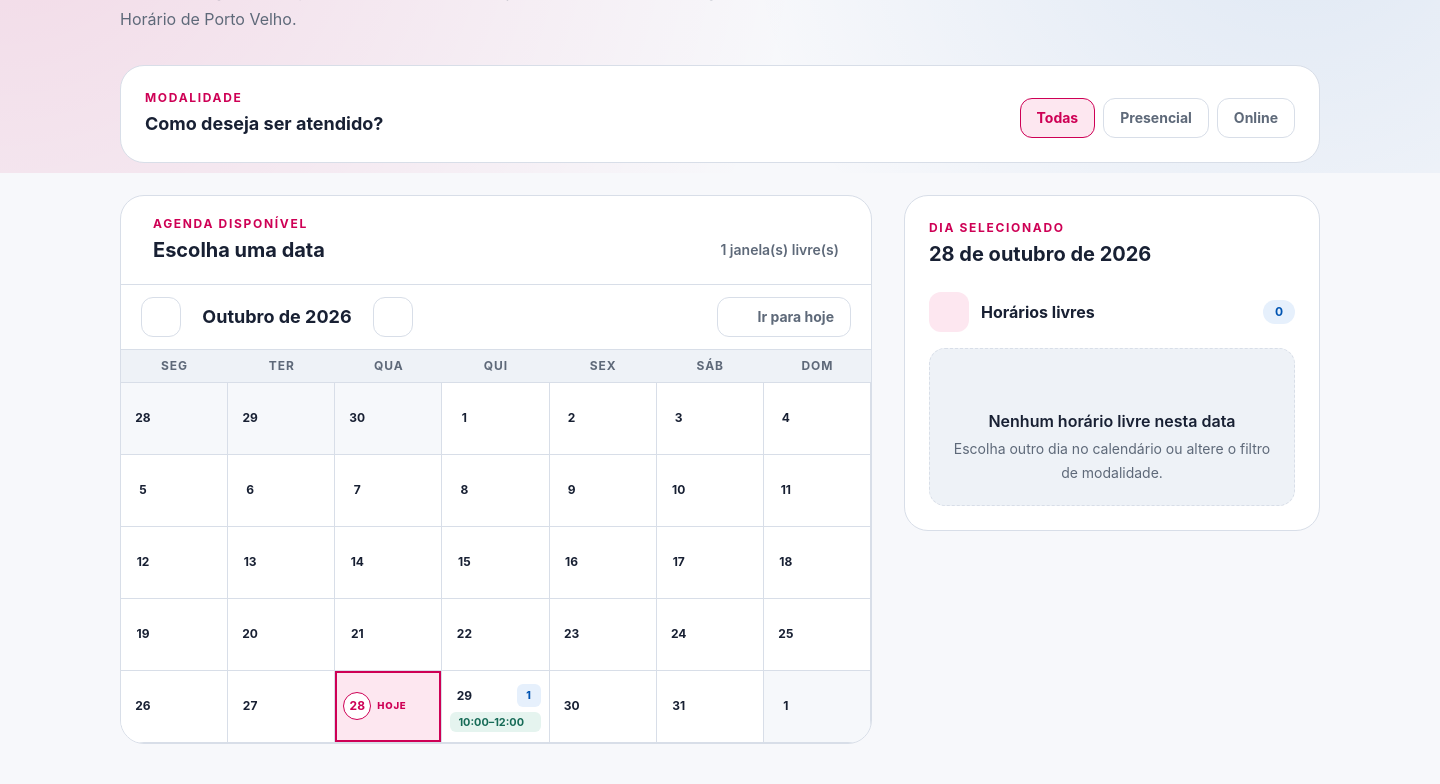
Test: NewAppointmentView › confirma a revisão no servidor, envia instantes UTC e exibe o protocolo
(page scrolled)
Click the button "29 1 10:00–12:00". click: click(496, 707)
box: top-left (442, 671), bottom-right (550, 743)
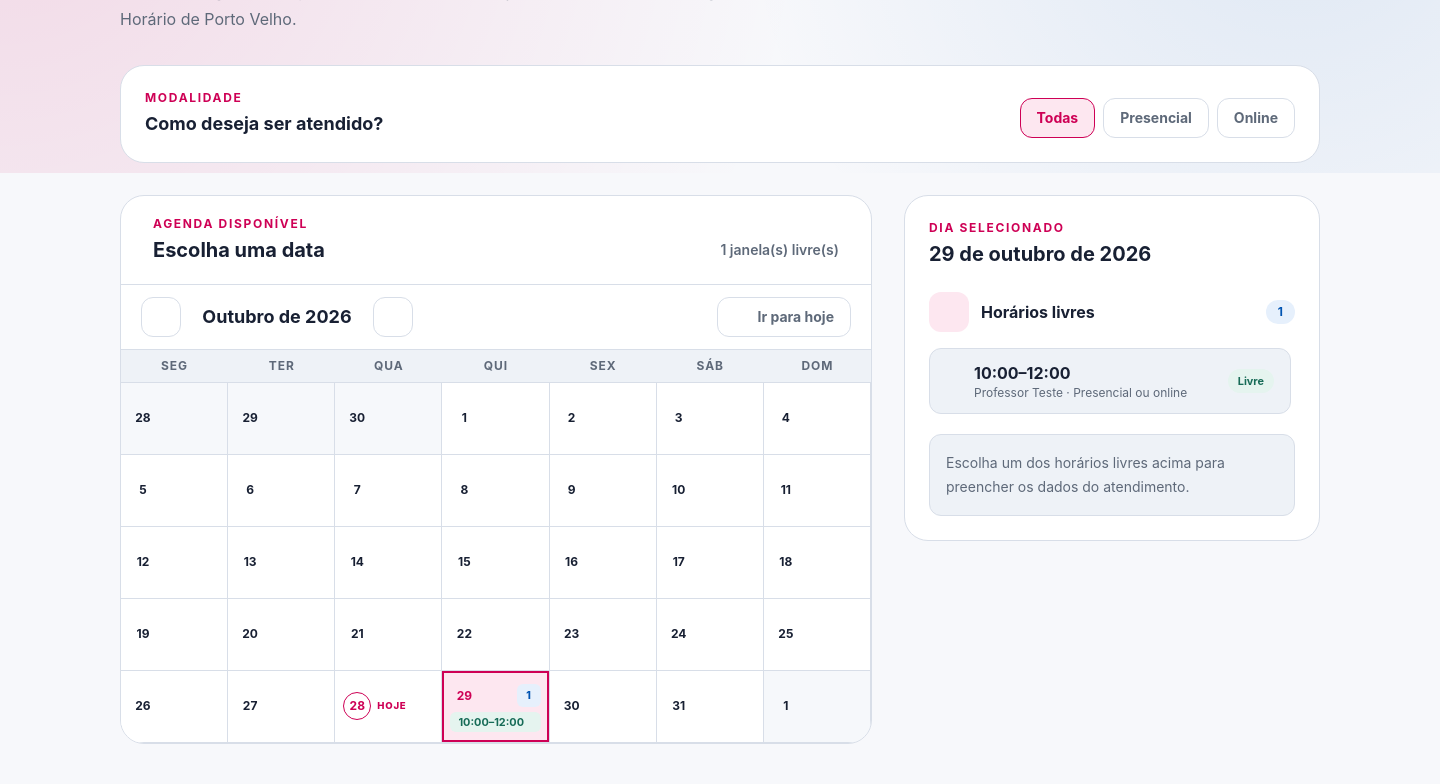
Click the button with test id "day-interval-". click: click(1022, 373)
box: top-left (929, 348), bottom-right (1291, 414)
(page scrolled)
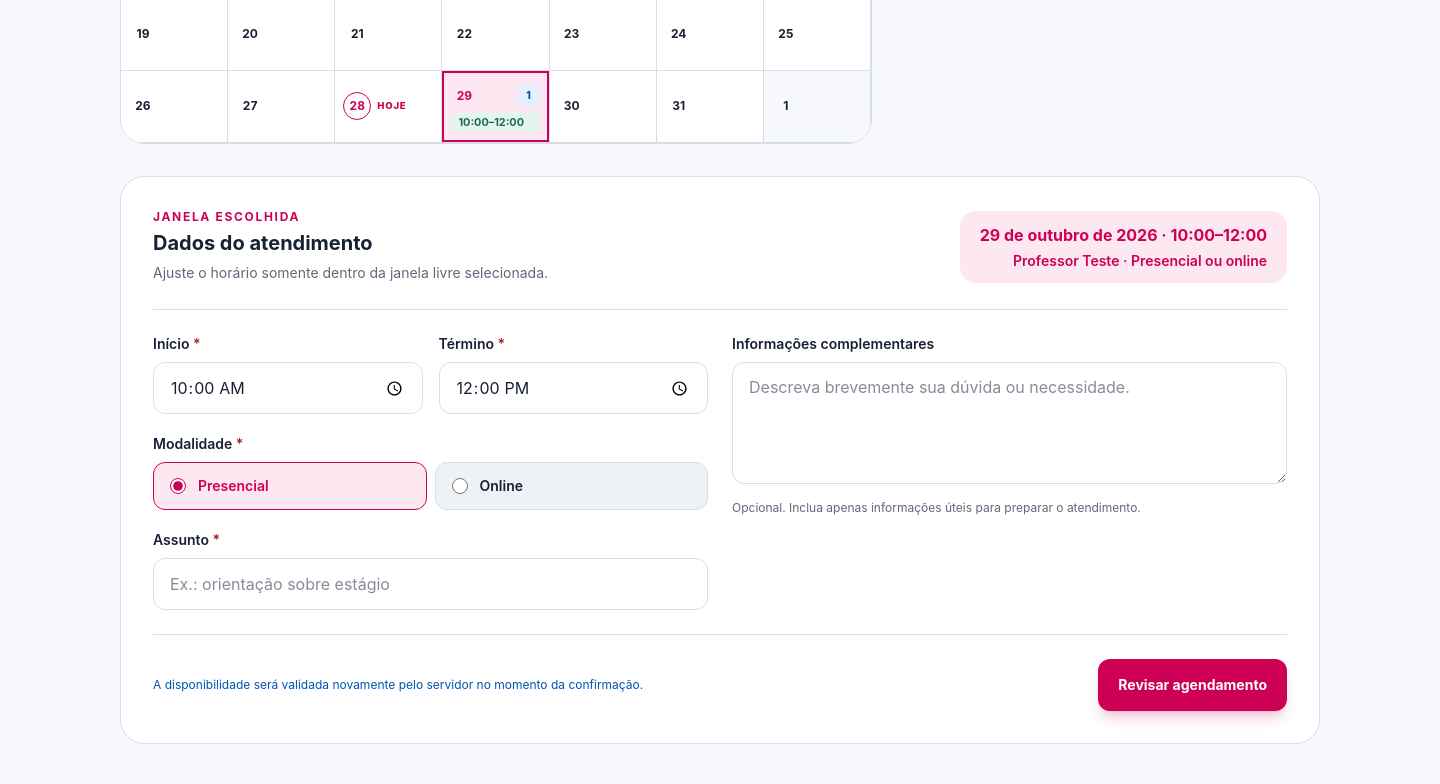
Type "Orientação sobre estágio" into the field named "subject". click: (430, 584)
box: top-left (153, 558), bottom-right (708, 610)
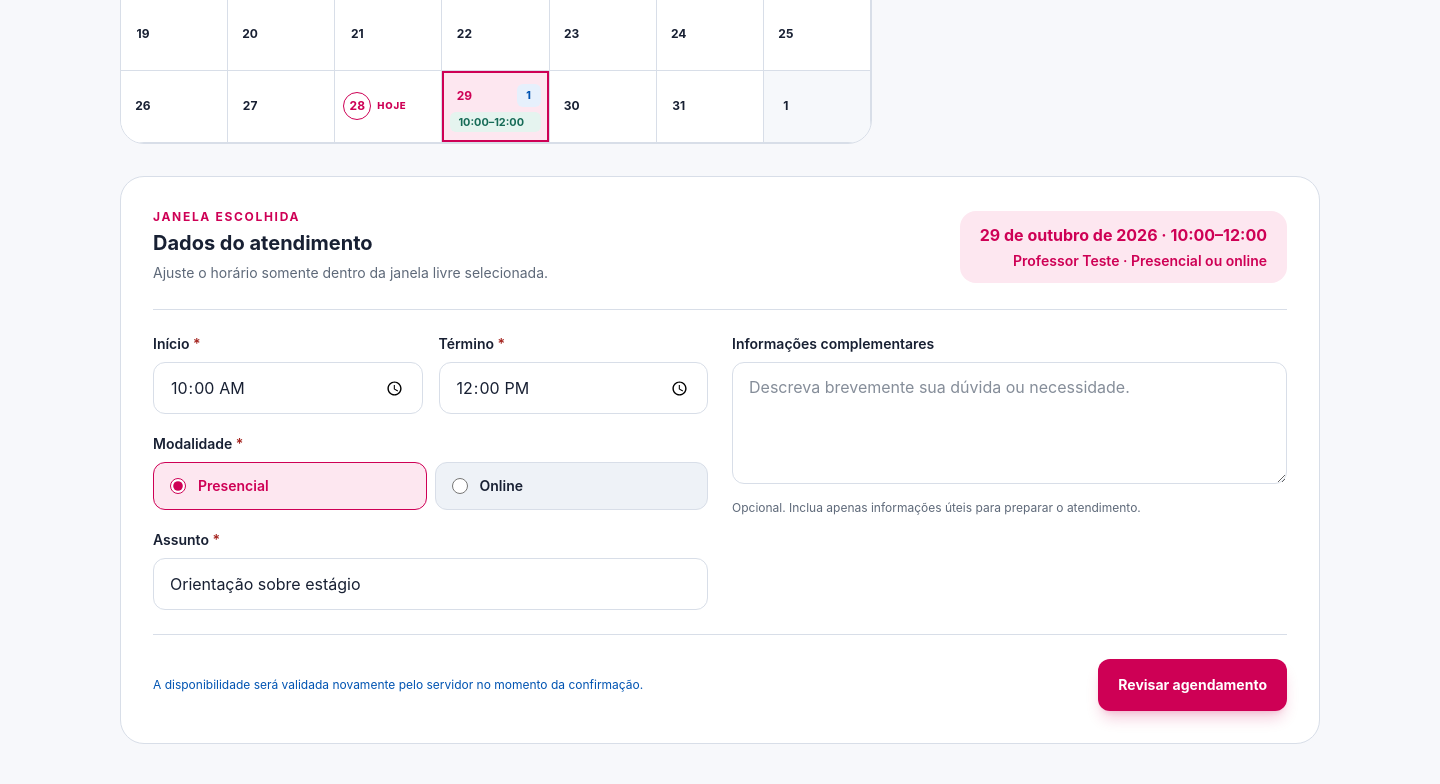
Type "Dúvidas sobre a documentação." into the text box named "details". click: (1010, 423)
box: top-left (732, 362), bottom-right (1287, 484)
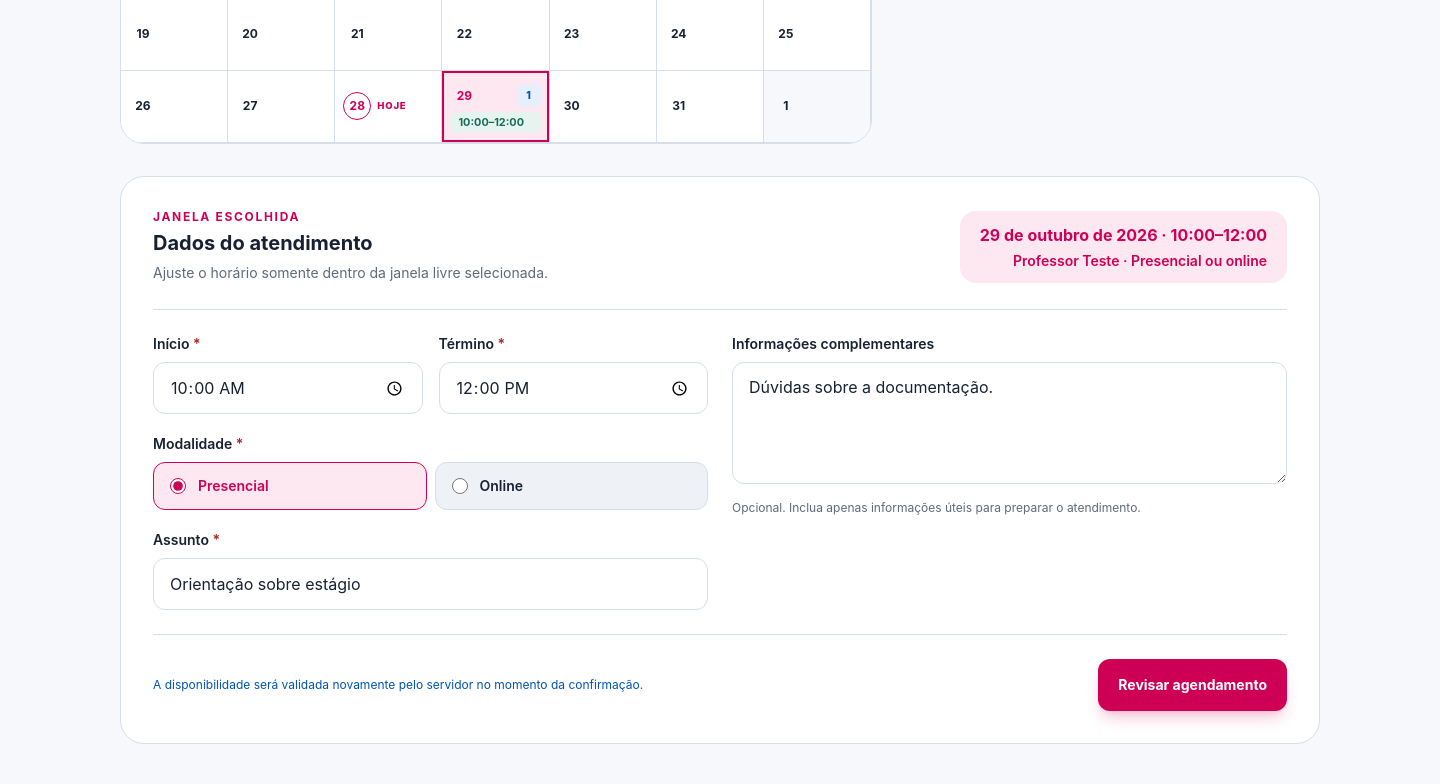
Submit the form with test id "appointment-form", box top-left (153, 209), bottom-right (1287, 711)
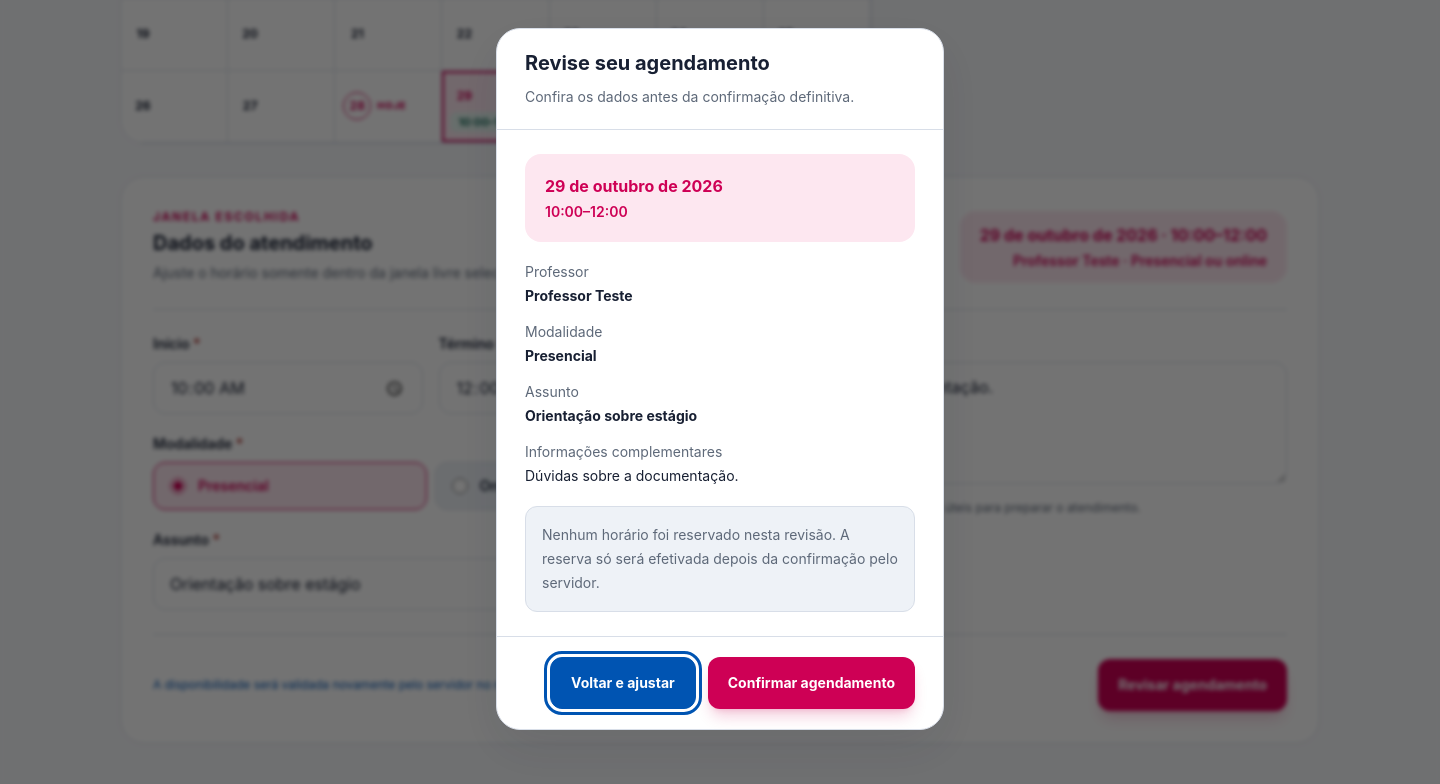
Click the button with test id "confirm-appointment". click: click(811, 683)
box: top-left (708, 657), bottom-right (915, 709)
(page scrolled)
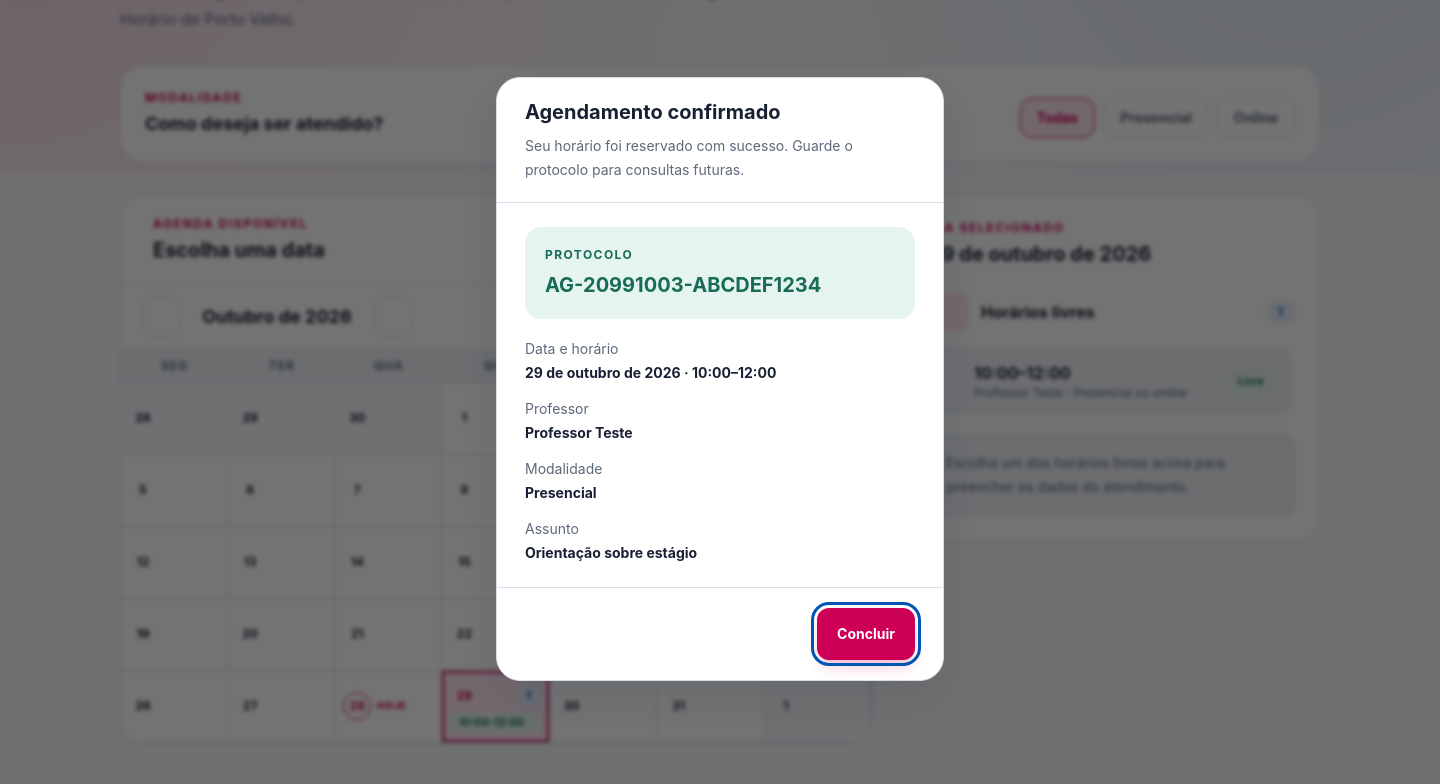
Check: the text "AG-20991003-ABCDEF1234" is shown, box top-left (545, 273), bottom-right (821, 297)
Check: the element with test id "appointment-confirmation" shows "Professor Teste", box top-left (525, 424), bottom-right (633, 441)
